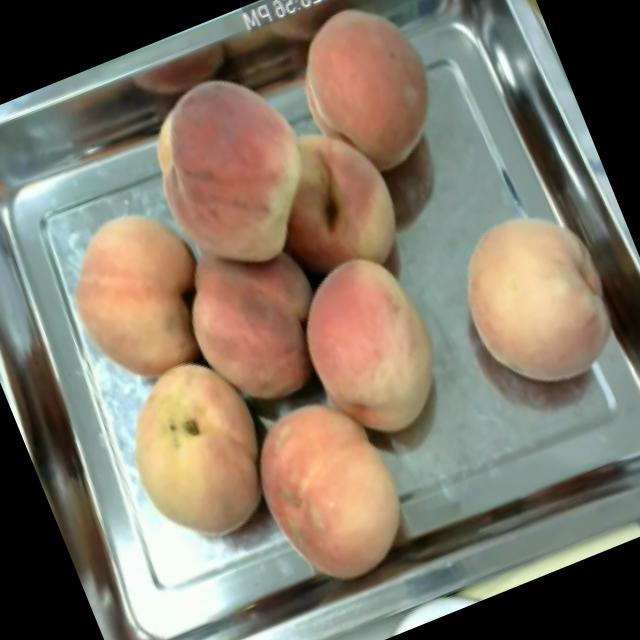Fruit: (118, 44, 348, 300), (224, 371, 436, 608), (92, 334, 304, 568), (154, 209, 364, 433), (432, 187, 638, 412), (270, 233, 470, 462), (36, 185, 239, 408), (235, 97, 424, 305), (270, 0, 463, 197)
